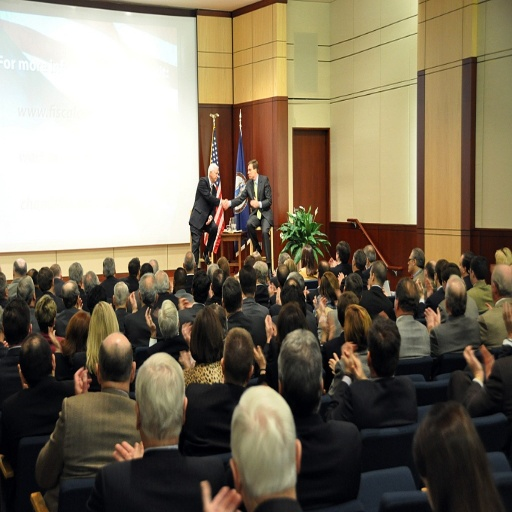hand: (198, 481, 239, 510), (462, 342, 483, 374), (112, 439, 136, 464), (73, 364, 92, 395), (479, 342, 494, 377), (424, 304, 440, 327), (142, 307, 156, 332), (501, 298, 511, 333), (177, 351, 194, 371), (129, 438, 144, 459), (351, 353, 363, 377), (327, 351, 338, 377), (182, 322, 192, 344), (414, 276, 424, 298), (424, 309, 434, 331), (263, 314, 272, 337), (424, 273, 432, 298), (128, 289, 137, 311), (273, 283, 281, 307), (317, 295, 327, 314), (335, 269, 344, 286), (248, 194, 258, 209), (178, 298, 189, 310), (266, 280, 274, 296), (204, 214, 213, 227), (77, 295, 84, 310), (221, 198, 229, 210)
